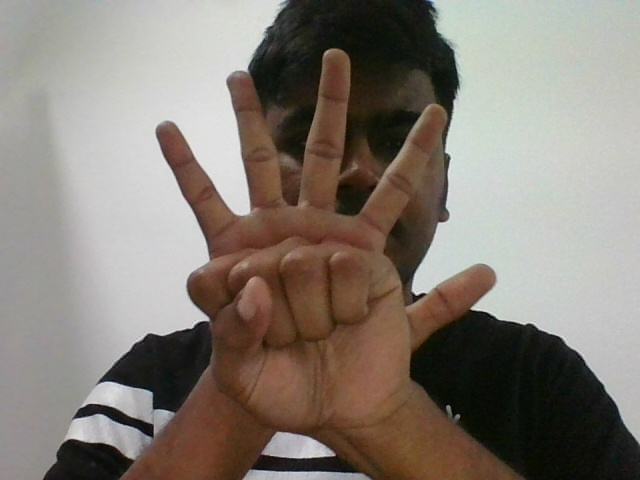coronavirus: (152, 44, 502, 424)
